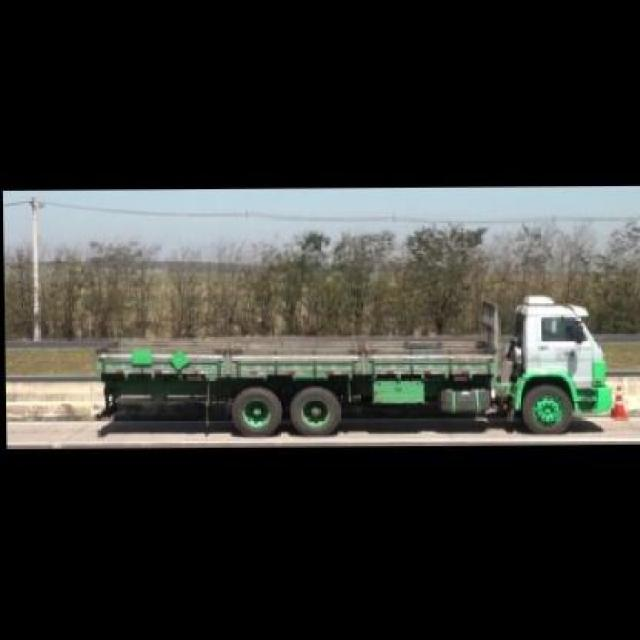truck: (92, 296, 620, 438)
